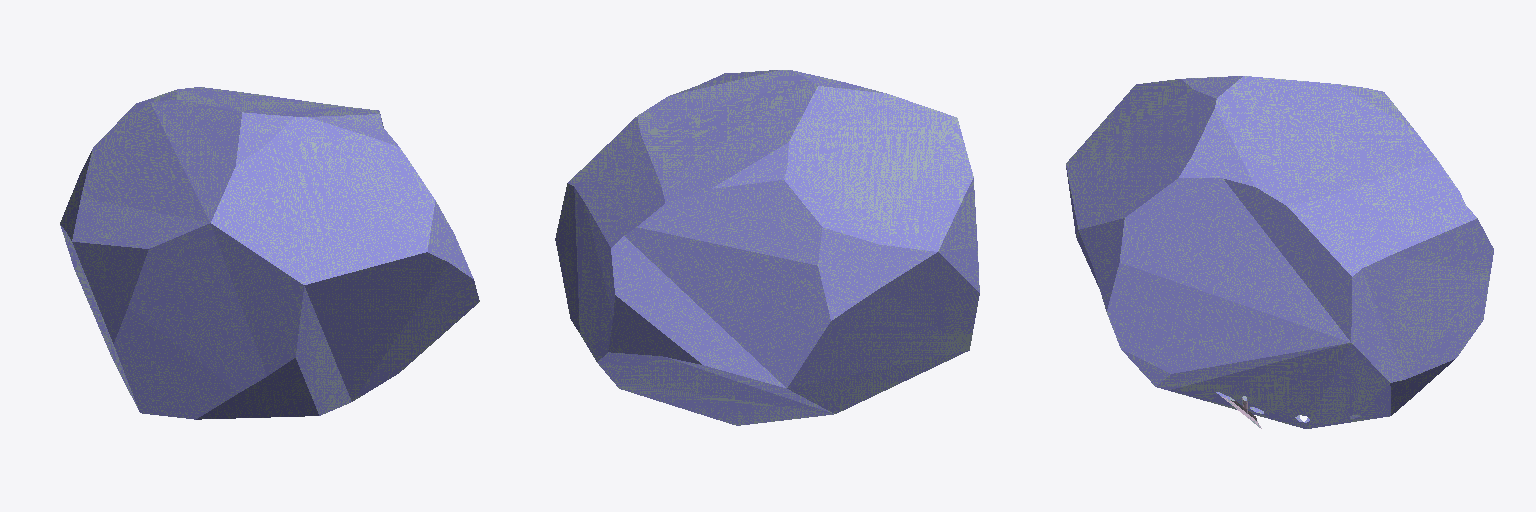
Rendered from Lilac_leaves(R154G145B219).obj.
3 views of the same model, side by side, from view 1: azimuth 30°, elevation 25°; view 2: azimuth 150°, elevation 25°; view 3: azimuth 270°, elevation 25° (orthographic).
Visible parts, largest first — view 1: Mesh1 Component_11_1 Model; view 2: Mesh1 Component_11_1 Model; view 3: Mesh1 Component_11_1 Model.
Boxes of the visible parts, x1,y1,x2,y2 form: Mesh1 Component_11_1 Model: [60, 87, 479, 419]; Mesh1 Component_11_1 Model: [555, 70, 979, 425]; Mesh1 Component_11_1 Model: [1066, 76, 1493, 428].
Bounding box in the file's own units: 5914 × 5254 × 6197.